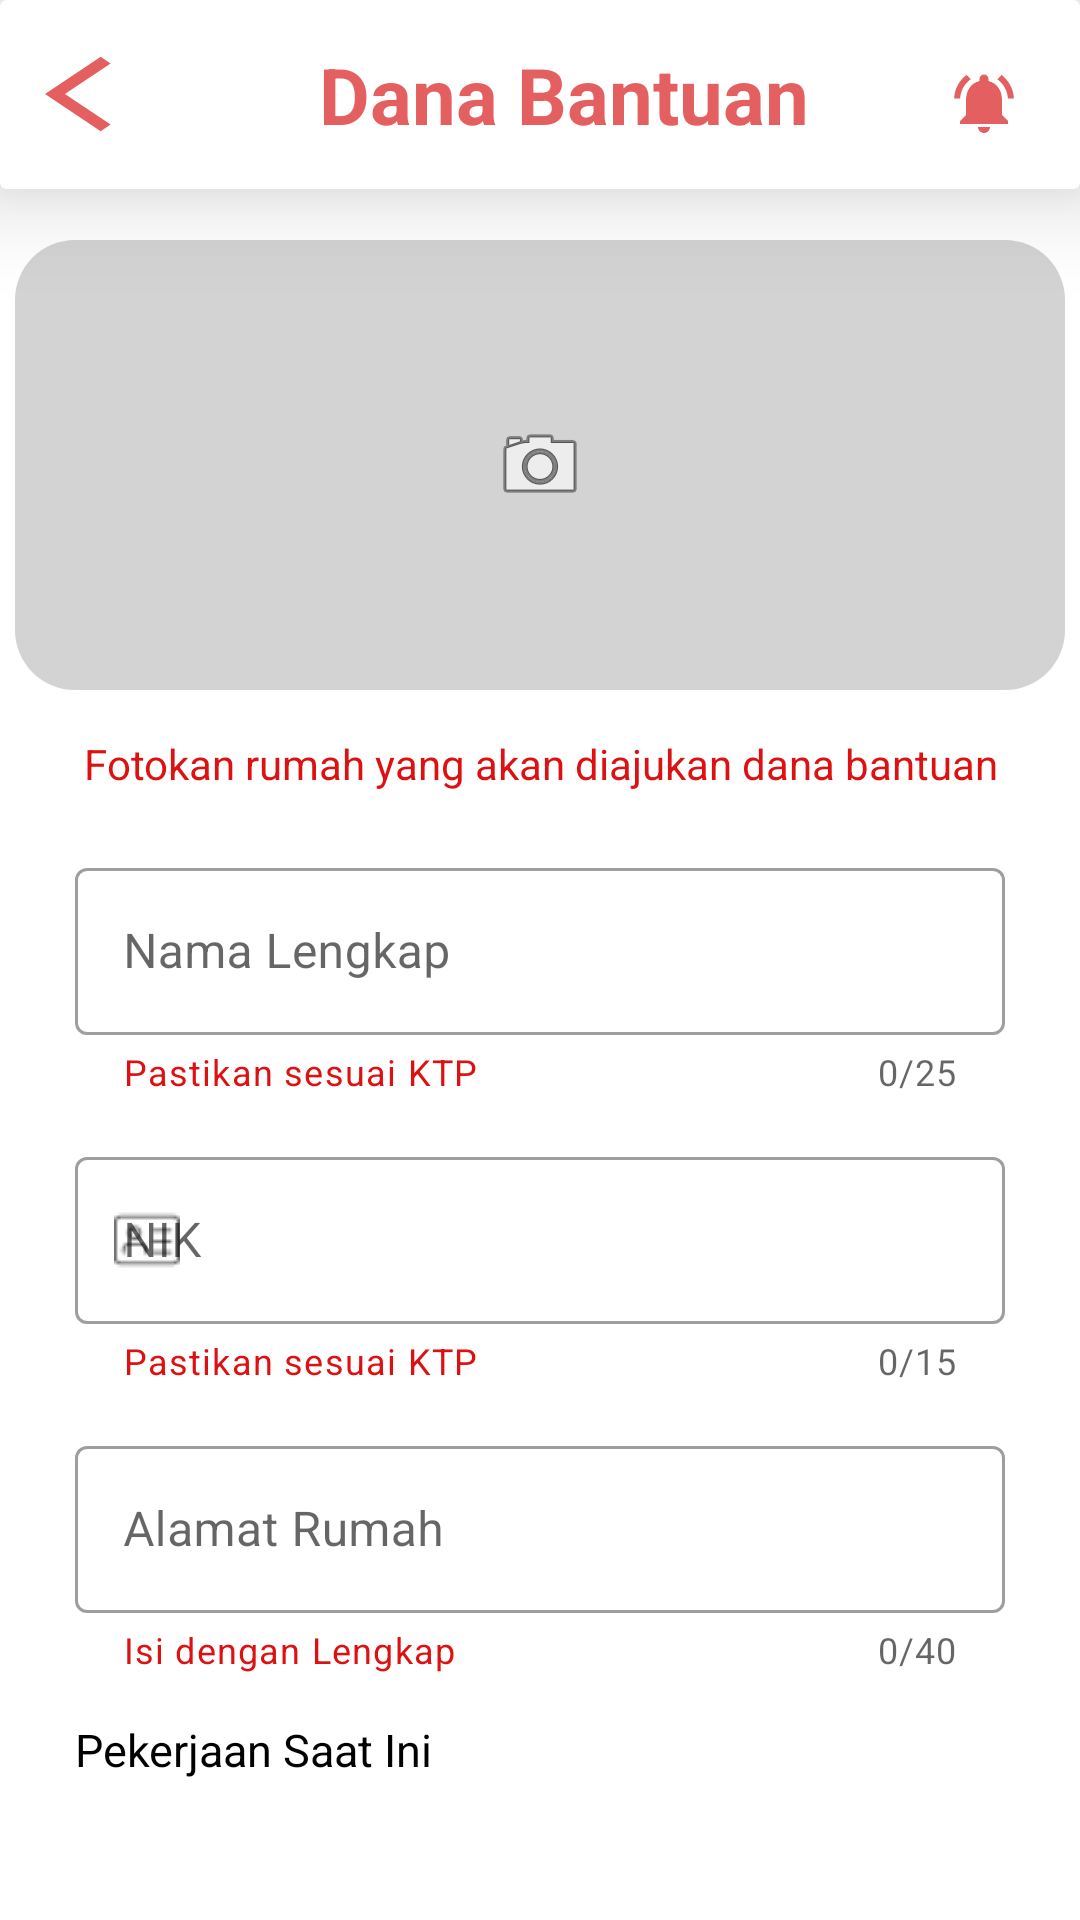

Icons on this 1080px x 1920px Android screen, each with the point to tap as (x=x, y=y):
back: (x=78, y=94)
notif: (x=984, y=103)
